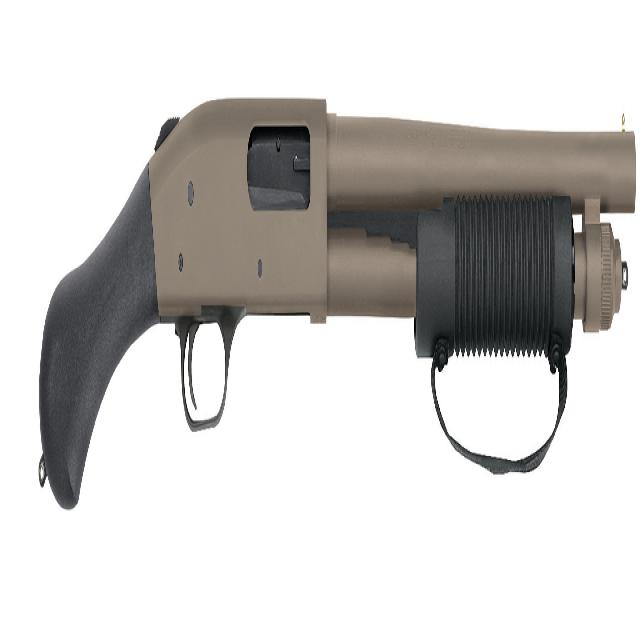ShotGun: (39, 99, 640, 513)
